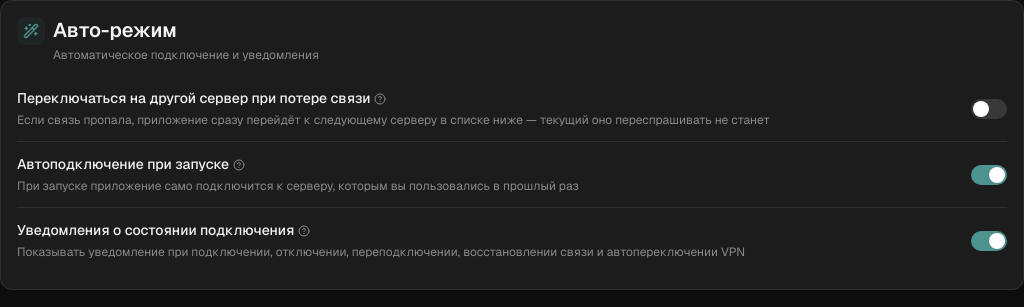
it: AutoModeSettings — the failover promise › gives the master row a named «?» whose text names both limits
The image size is (1024, 307).
Expected: the heading "Авто-режим" is shown, [53, 17, 177, 43]
Press Tab
Focus the button named "Подробнее: Переключаться на другой сервер при потере связи" at (380, 99), box [374, 93, 386, 105]
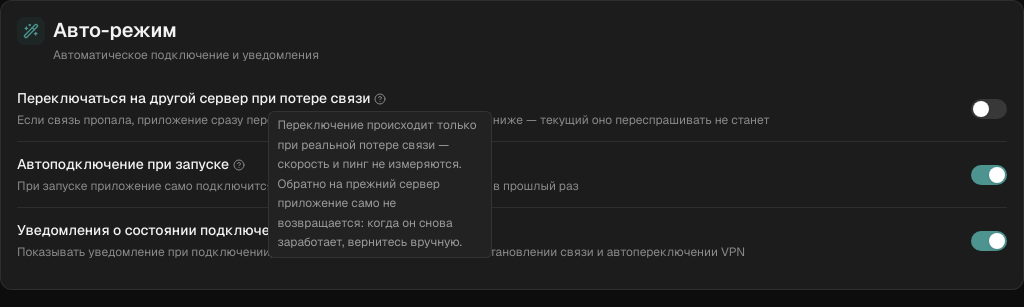
Now the text "само не возвращается" is shown, box [278, 117, 477, 250]
